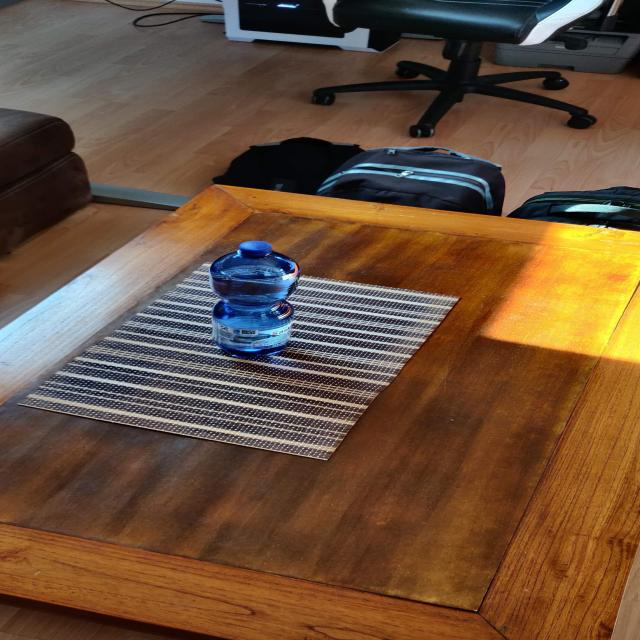plastic bottle: (204, 238, 304, 361)
